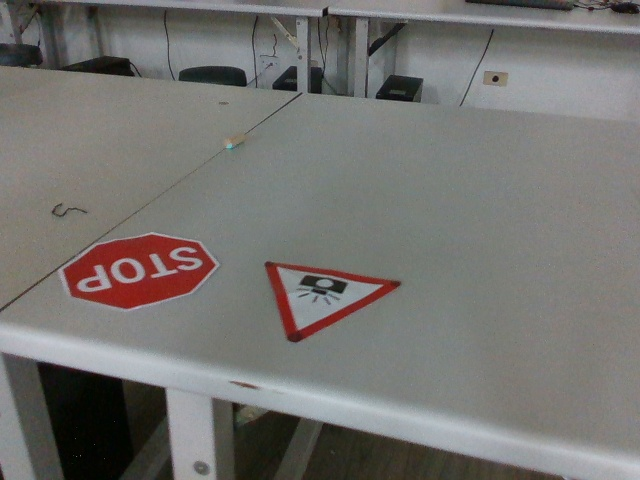camera: (265, 255, 404, 341)
stop: (57, 231, 223, 312)
